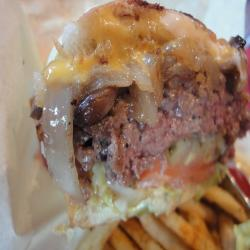burger: (37, 5, 242, 217)
